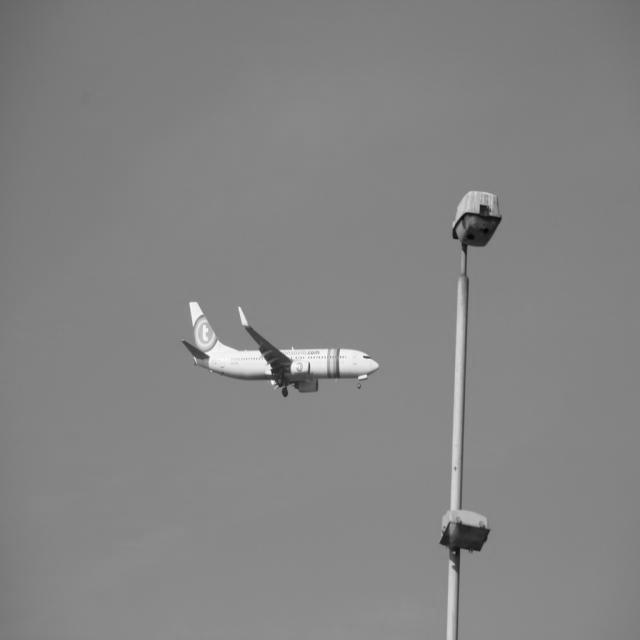aeroplane: (179, 298, 377, 396)
